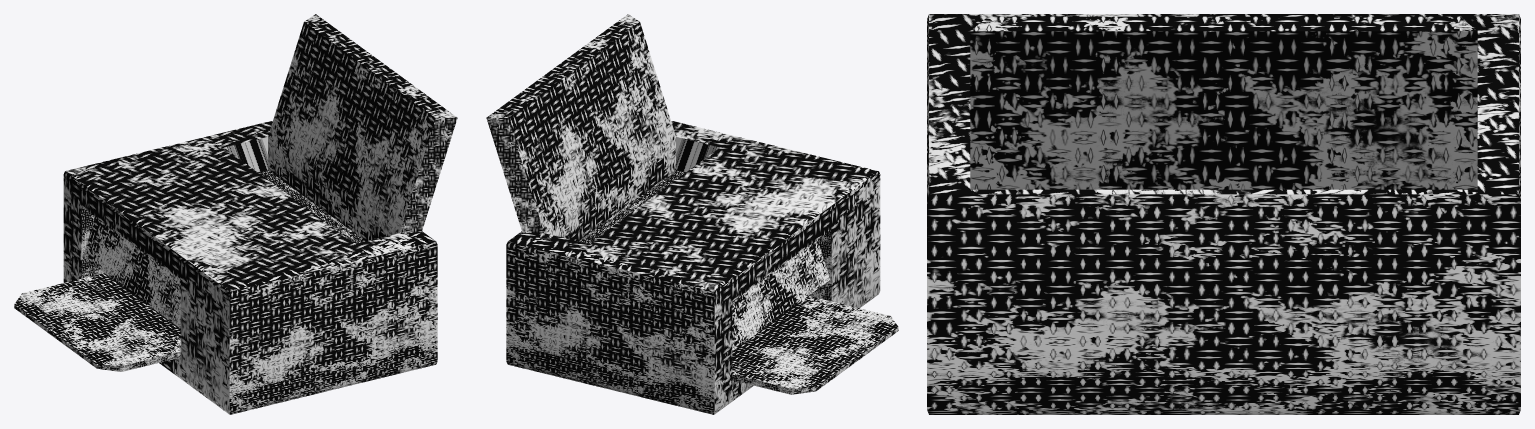
File: IMPRESORA.fbx
3 renders of one model, left to right at view 1: azimuth 30°, elevation 25°; view 2: azimuth 150°, elevation 25°; view 3: azimuth 270°, elevation 25°, orthographic. The views are drawn at different scales.
Visible parts, largest first — view 1: Impresora006; view 2: Impresora006; view 3: Impresora006.
Part boxes in pixels (bbox=[...]): Impresora006: bbox=[14, 14, 457, 414]; Impresora006: bbox=[486, 14, 898, 414]; Impresora006: bbox=[927, 14, 1520, 414].
Size of the model in its own units: 96.3 by 67.51 by 87.67.
